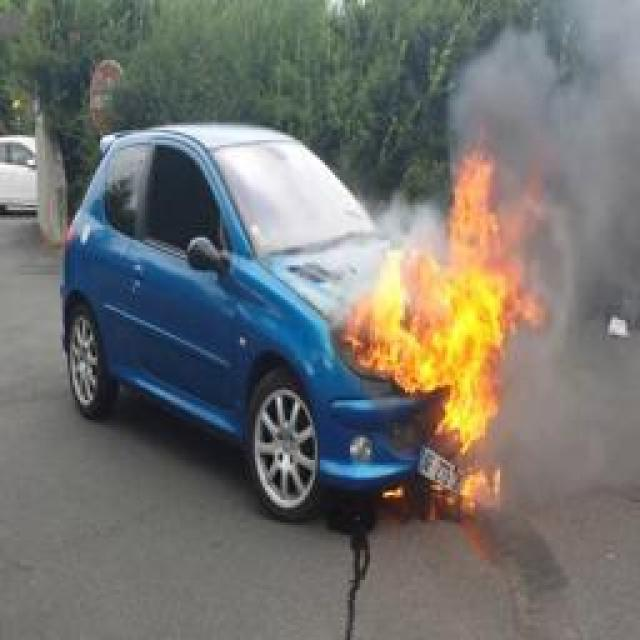Fire: (338, 146, 554, 516)
